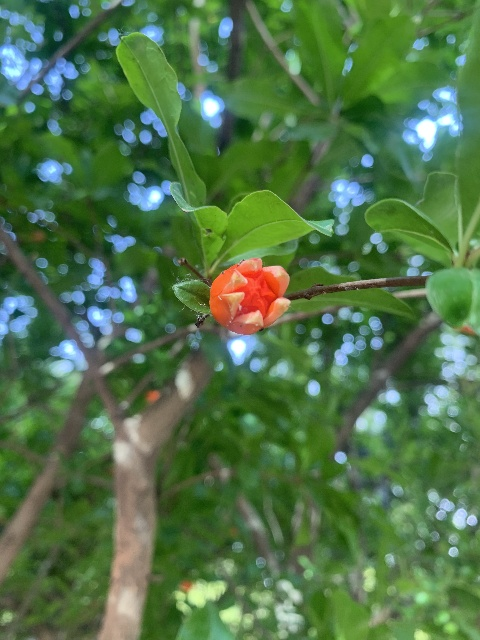flower: (209, 258, 290, 335)
